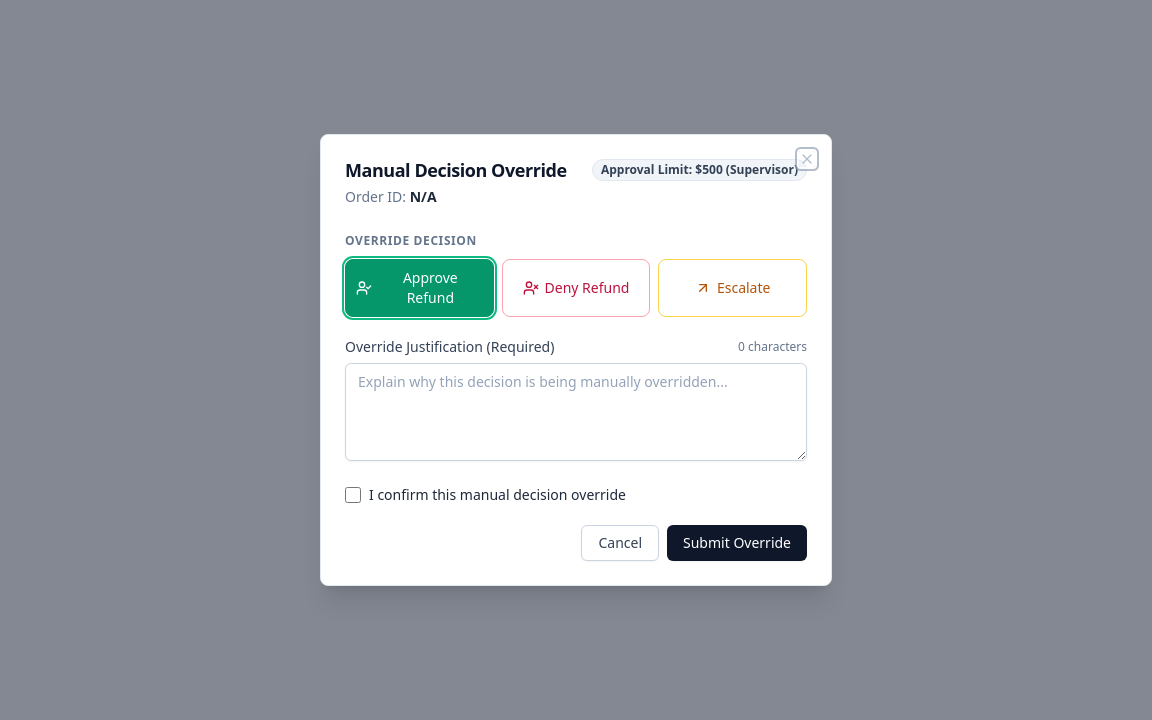
Scenario: ManualOverrideModal component › displays RFC 9457 ProblemDetails alert banner on mutation failure without closing modal or clearing inputs
Type "Critical supervisor justification" into the text box labelled "Override Justification (Required)" at (576, 412), box left=345, top=363, right=807, bottom=461
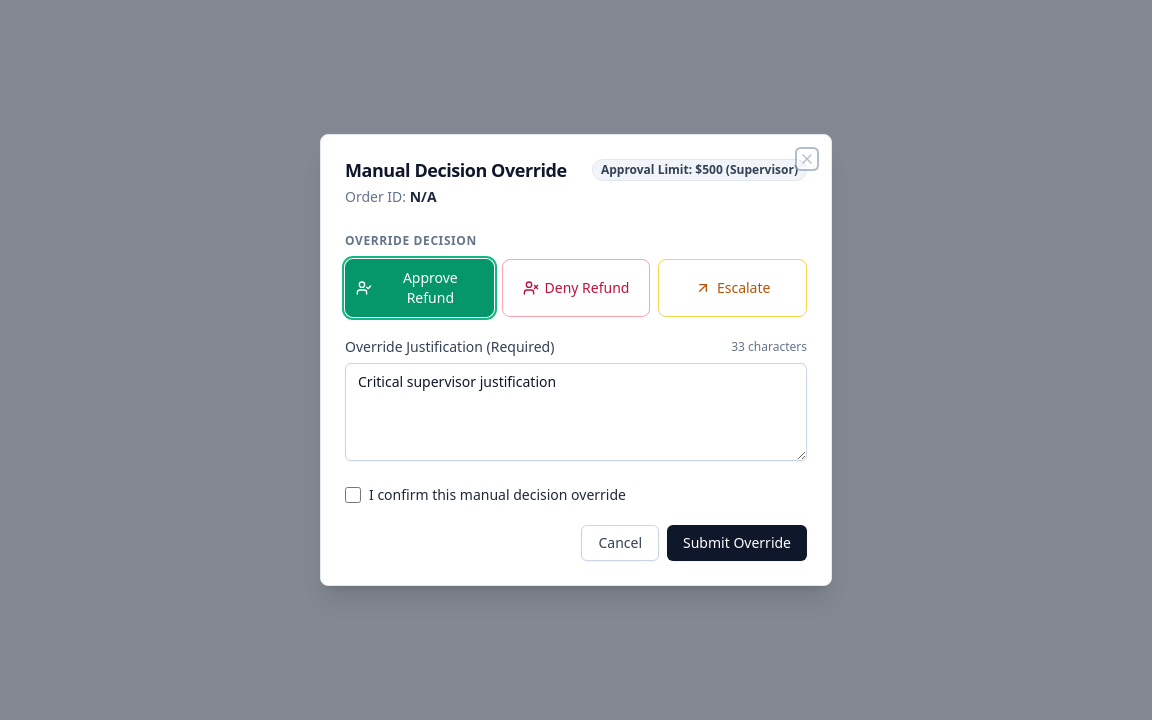
Click the checkbox labelled "I confirm this manual decision override" at (353, 495), box left=345, top=487, right=361, bottom=503
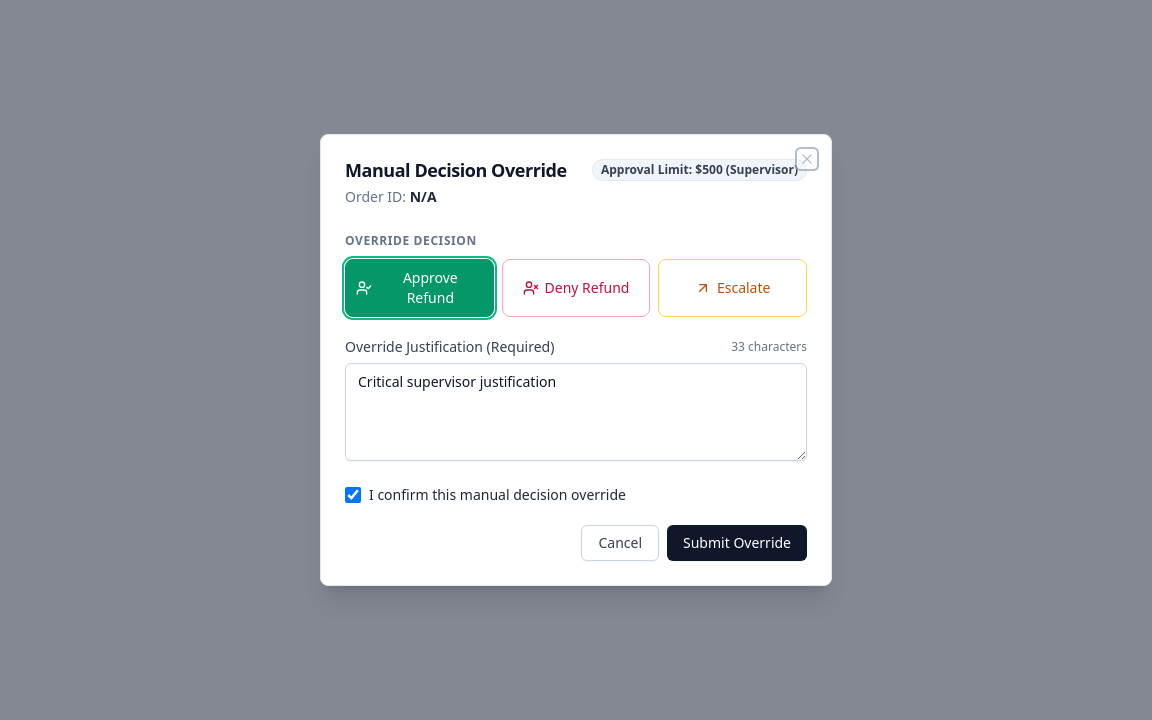
Click the button "Submit Override" at (737, 543), box left=667, top=525, right=807, bottom=561
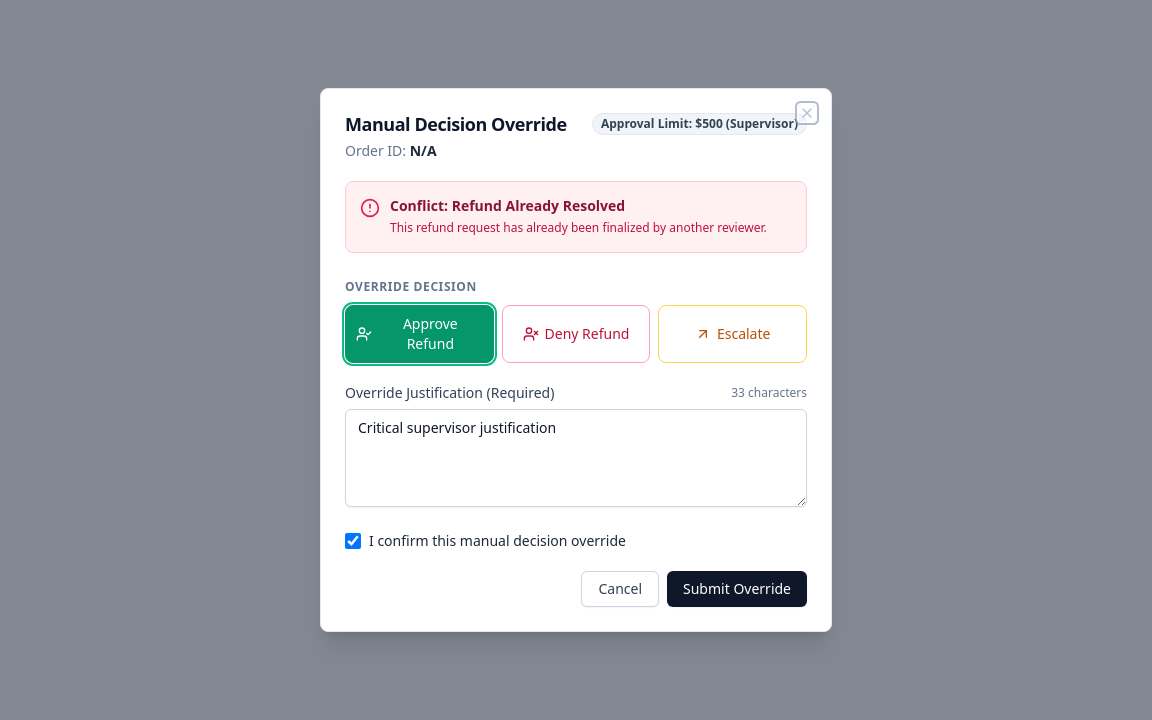
Expected: the message with test id "override-error-banner" is shown, left=345, top=181, right=807, bottom=253
Expected: the heading "Conflict: Refund Already Resolved" is shown, left=390, top=196, right=625, bottom=215
Expected: the text "This refund request has already been finalized by another reviewer." is shown, left=390, top=218, right=767, bottom=238
